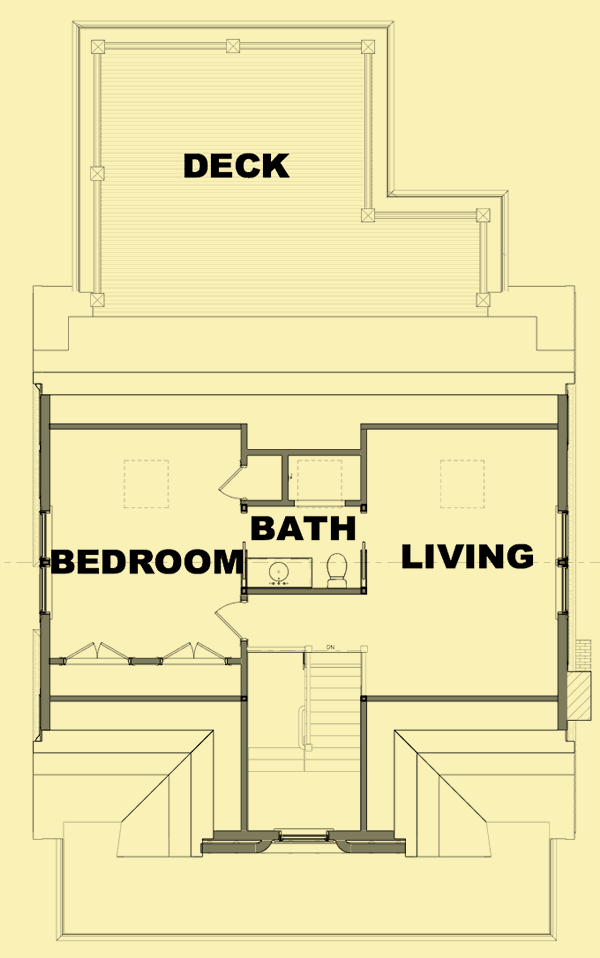door: (211, 592, 243, 648), (156, 641, 230, 664), (57, 639, 126, 663), (217, 464, 243, 503)
large_sink: (319, 548, 356, 591)
small_sink: (246, 553, 314, 593)
stairs: (244, 647, 369, 837)
window: (555, 508, 573, 611)
